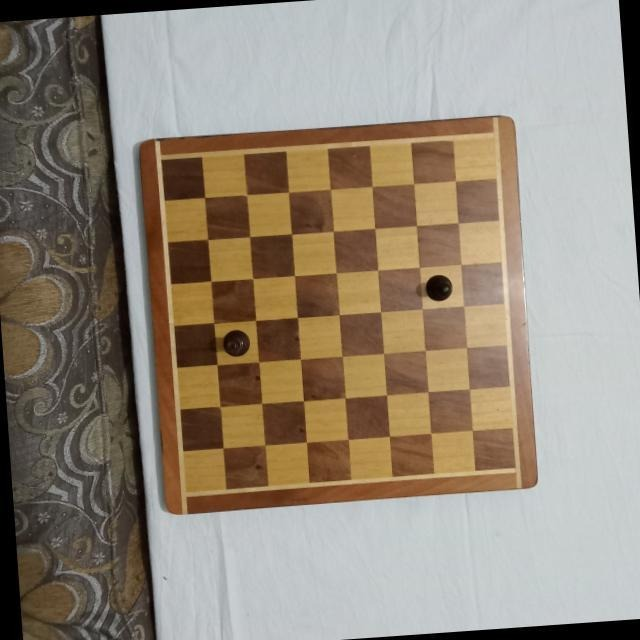black-pawn: (219, 327, 251, 360), (422, 272, 453, 302)
